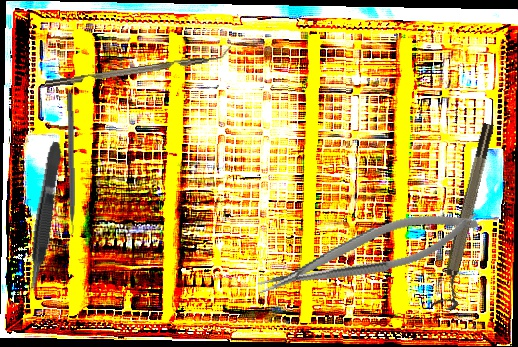Chopper: (43, 45, 233, 88), (59, 93, 76, 243)
Fixation Ring: (430, 121, 506, 313)
Needle Holder: (249, 198, 486, 306)
Tissue Forceps: (21, 140, 68, 295)
